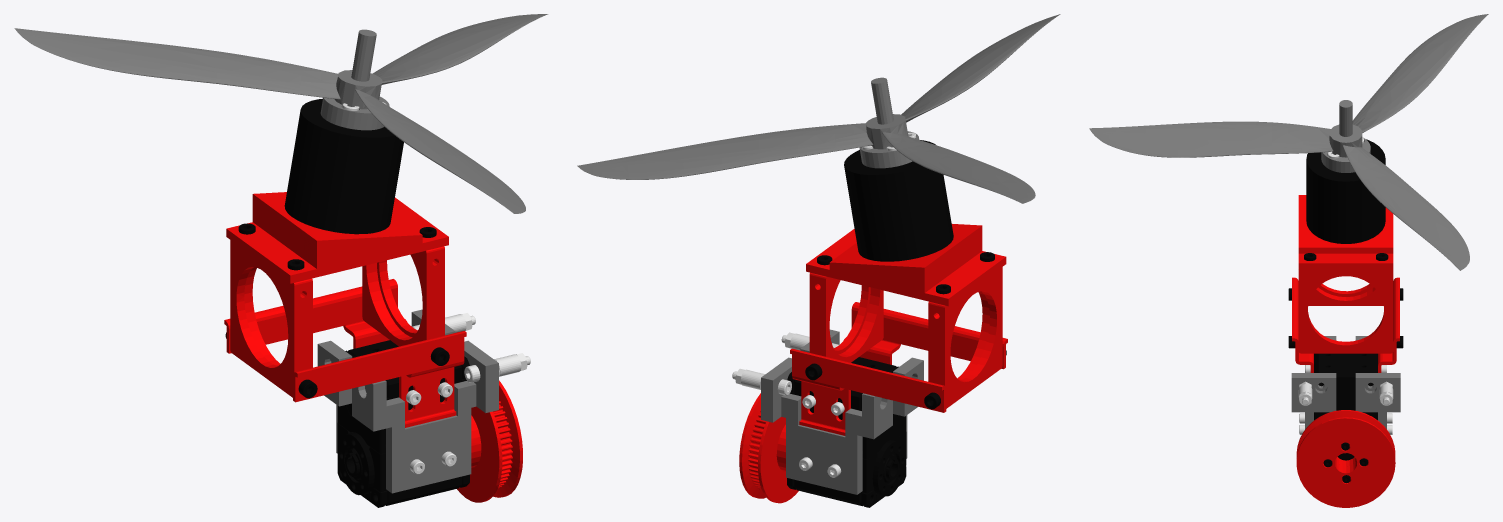
The model's file is link2_gimbal.dae.
The picture shows the model from 3 angles, left to right: view 1: azimuth 30°, elevation 25°; view 2: azimuth 150°, elevation 25°; view 3: azimuth 270°, elevation 25°; orthographic projection. The views are drawn at different scales.
Visible parts, largest first — view 1: link_2_gimbal - gimbal_rotation_base-1 gimbal_servo_with_ho. (×9), link_2_gimbal - tmotor_at2814_with_9inch_prop-1 9inch_prop-1, link_2_gimbal - tmotor_at2814_with_9inch_prop-1 t_motor_at2. (×2), link_2_gimbal - gimbal_rotation_base-1 gimbal_roll_holder_PL (×2), link_2_gimbal - motor_mount_link2_v2-1; view 2: link_2_gimbal - gimbal_rotation_base-1 gimbal_servo_with_ho. (×9), link_2_gimbal - tmotor_at2814_with_9inch_prop-1 9inch_prop-1, link_2_gimbal - tmotor_at2814_with_9inch_prop-1 t_motor_at2. (×2), link_2_gimbal - gimbal_rotation_base-1 gimbal_roll_holder_PL (×2), link_2_gimbal - motor_mount_link2_v2-1; view 3: link_2_gimbal - tmotor_at2814_with_9inch_prop-1 9inch_prop-1, link_2_gimbal - gimbal_rotation_base-1 gimbal_servo_with_ho. (×7), link_2_gimbal - tmotor_at2814_with_9inch_prop-1 t_motor_at2. (×2), link_2_gimbal - gimbal_rotation_base-1 gimbal_roll_holder_PL (×2), link_2_gimbal - motor_mount_link2_v2-1.
Part boxes in pixels (x1,y1,x2,y2): link_2_gimbal - gimbal_rotation_base-1 gimbal_servo_with_ho. (×9): [224, 279, 522, 505]; link_2_gimbal - tmotor_at2814_with_9inch_prop-1 9inch_prop-1: [14, 14, 548, 213]; link_2_gimbal - tmotor_at2814_with_9inch_prop-1 t_motor_at2. (×2): [284, 29, 403, 234]; link_2_gimbal - gimbal_rotation_base-1 gimbal_roll_holder_PL (×2): [230, 240, 444, 397]; link_2_gimbal - motor_mount_link2_v2-1: [226, 192, 448, 283]; link_2_gimbal - gimbal_rotation_base-1 gimbal_servo_with_ho. (×9): [739, 302, 1007, 506]; link_2_gimbal - tmotor_at2814_with_9inch_prop-1 9inch_prop-1: [577, 14, 1060, 203]; link_2_gimbal - tmotor_at2814_with_9inch_prop-1 t_motor_at2. (×2): [844, 77, 953, 261]; link_2_gimbal - gimbal_rotation_base-1 gimbal_roll_holder_PL (×2): [809, 267, 1002, 408]; link_2_gimbal - motor_mount_link2_v2-1: [806, 224, 1006, 306]; link_2_gimbal - tmotor_at2814_with_9inch_prop-1 9inch_prop-1: [1089, 14, 1488, 270]; link_2_gimbal - gimbal_rotation_base-1 gimbal_servo_with_ho. (×7): [1291, 277, 1400, 507]; link_2_gimbal - tmotor_at2814_with_9inch_prop-1 t_motor_at2. (×2): [1306, 100, 1385, 243]; link_2_gimbal - gimbal_rotation_base-1 gimbal_roll_holder_PL (×2): [1298, 269, 1393, 353]; link_2_gimbal - motor_mount_link2_v2-1: [1298, 195, 1393, 269].
Bounding box in the file's own units: 0.1951 × 0.1779 × 0.1774.
